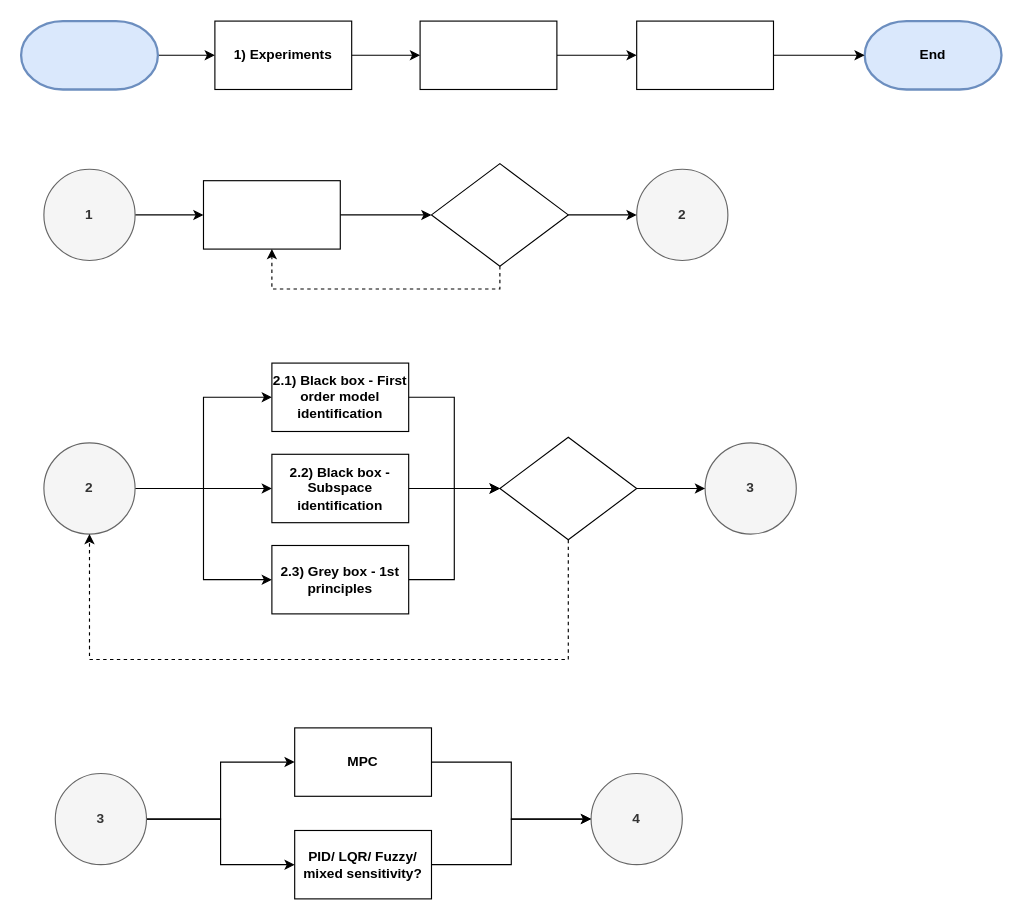
The diagram is 1021 pixels wide and 919 high, and some of its shapes have lost their labels. Here are the shapes that lost their labels. From the top down, the centre of each, then its label:
At [88,54]: "Start".
At [488,54]: "2) System Identification".
At [704,54]: "4) Controller Design".
At [271,214]: "1.1) Run experiments".
At [499,214]: "1.2) Data validation".
At [568,488]: "1.2) Model validation".
